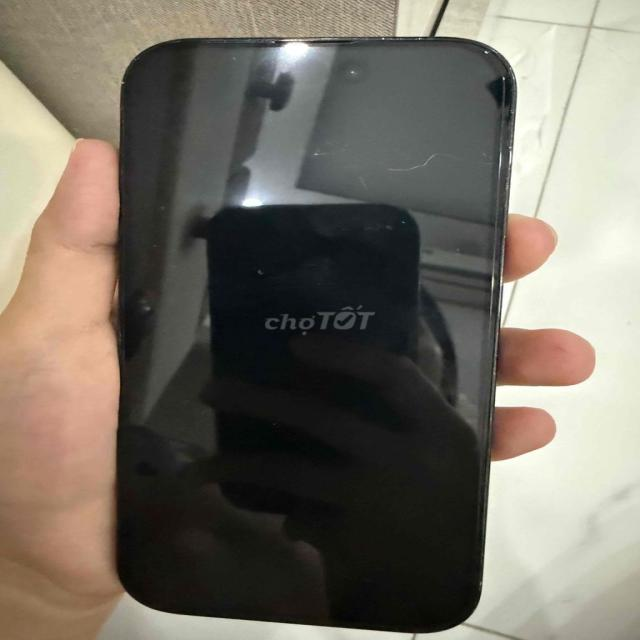gen_14: (90, 19, 530, 638)
scratch: (302, 147, 506, 216), (165, 27, 466, 56), (131, 199, 165, 331), (236, 254, 277, 284)
